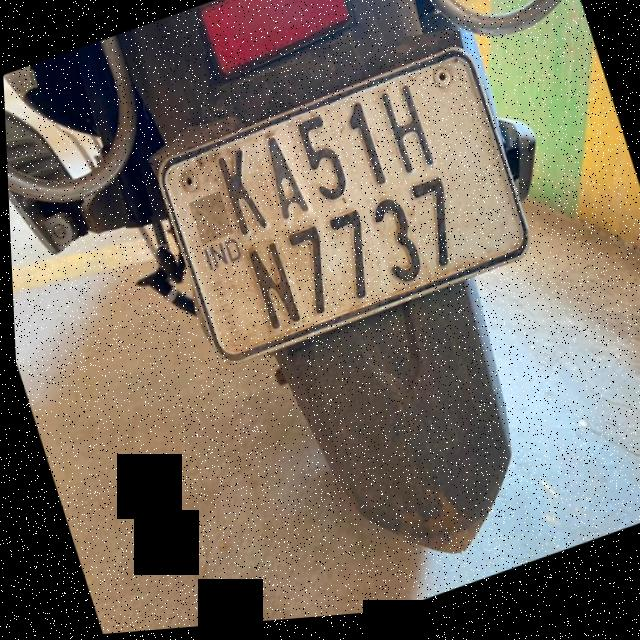1: (336, 100, 396, 201)
3: (362, 192, 428, 300)
5: (288, 109, 354, 217)
7: (402, 171, 469, 285), (318, 206, 387, 315), (277, 220, 342, 325)
A: (248, 123, 313, 233)
H: (374, 83, 440, 194)
K: (207, 143, 274, 251)
N: (236, 236, 307, 356)
